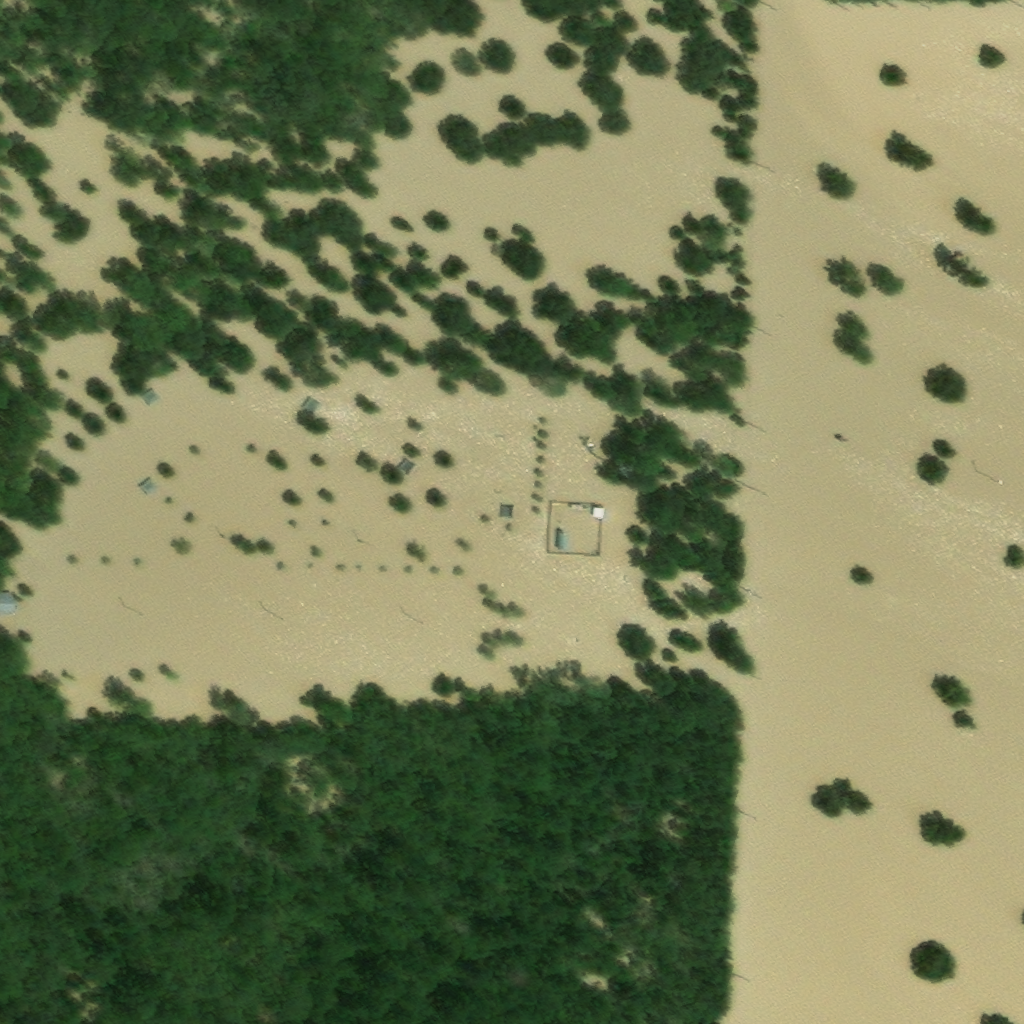destroyed: (139, 480, 157, 499), (501, 506, 517, 523), (141, 391, 159, 406), (399, 460, 415, 476), (495, 462, 509, 475), (593, 506, 602, 520), (495, 437, 504, 450), (486, 448, 492, 465), (572, 506, 584, 514), (622, 575, 629, 588), (520, 462, 527, 474), (494, 489, 502, 499), (587, 445, 595, 451)
major_damage: (0, 592, 14, 614), (303, 398, 319, 414), (558, 533, 565, 550)
